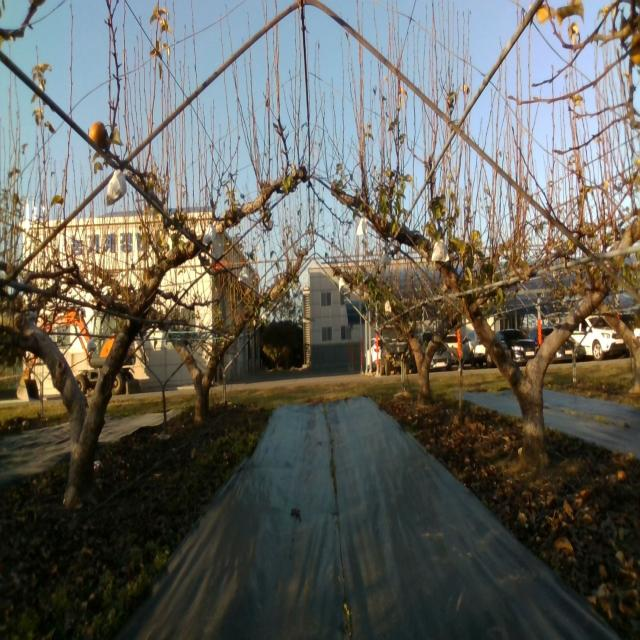pearbags: (106, 168, 129, 209), (431, 239, 450, 263), (202, 221, 216, 247), (357, 217, 368, 237)
